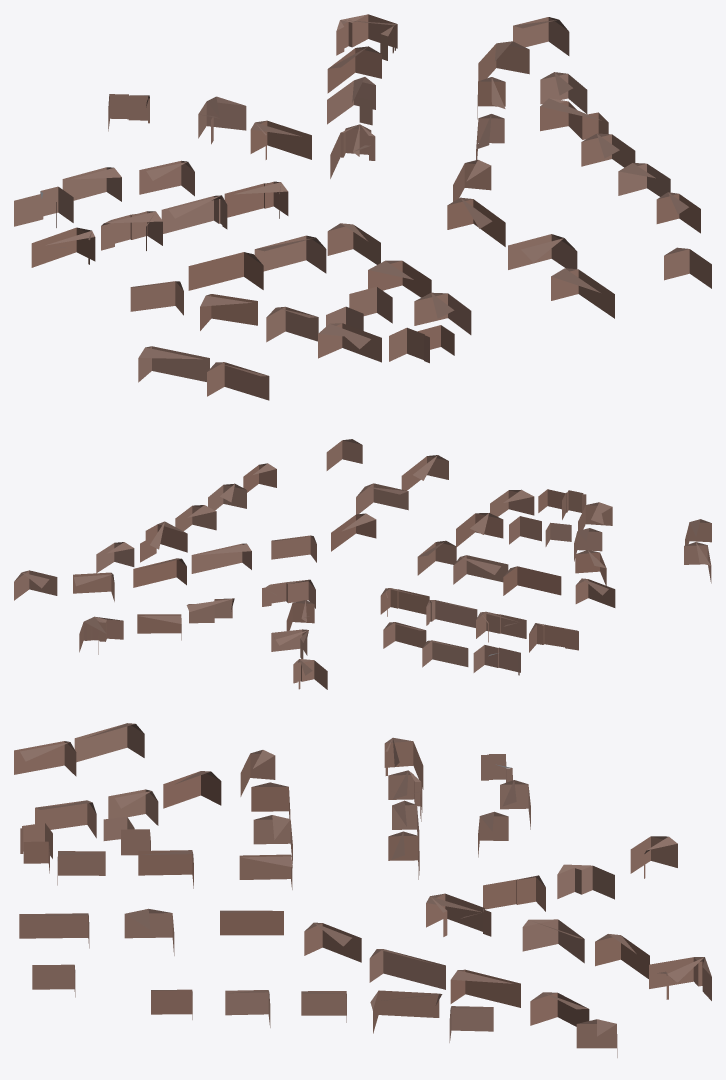
File: c_1644_17837_buildings_residential.glb
3 renders of one model, top to bottom at view 1: azimuth 30°, elevation 25°; view 2: azimuth 150°, elevation 25°; view 3: azimuth 270°, elevation 25°, orthographic. The views are drawn at different scales.
Parts seen in each view (by area): view 1: geometry_0; view 2: geometry_0; view 3: geometry_0.
Part boxes in pixels (bbox=[...]): geometry_0: bbox=[14, 14, 711, 400]; geometry_0: bbox=[14, 439, 711, 689]; geometry_0: bbox=[14, 723, 711, 1057].
Size of the model in its own units: 250 by 10.68 by 232.
